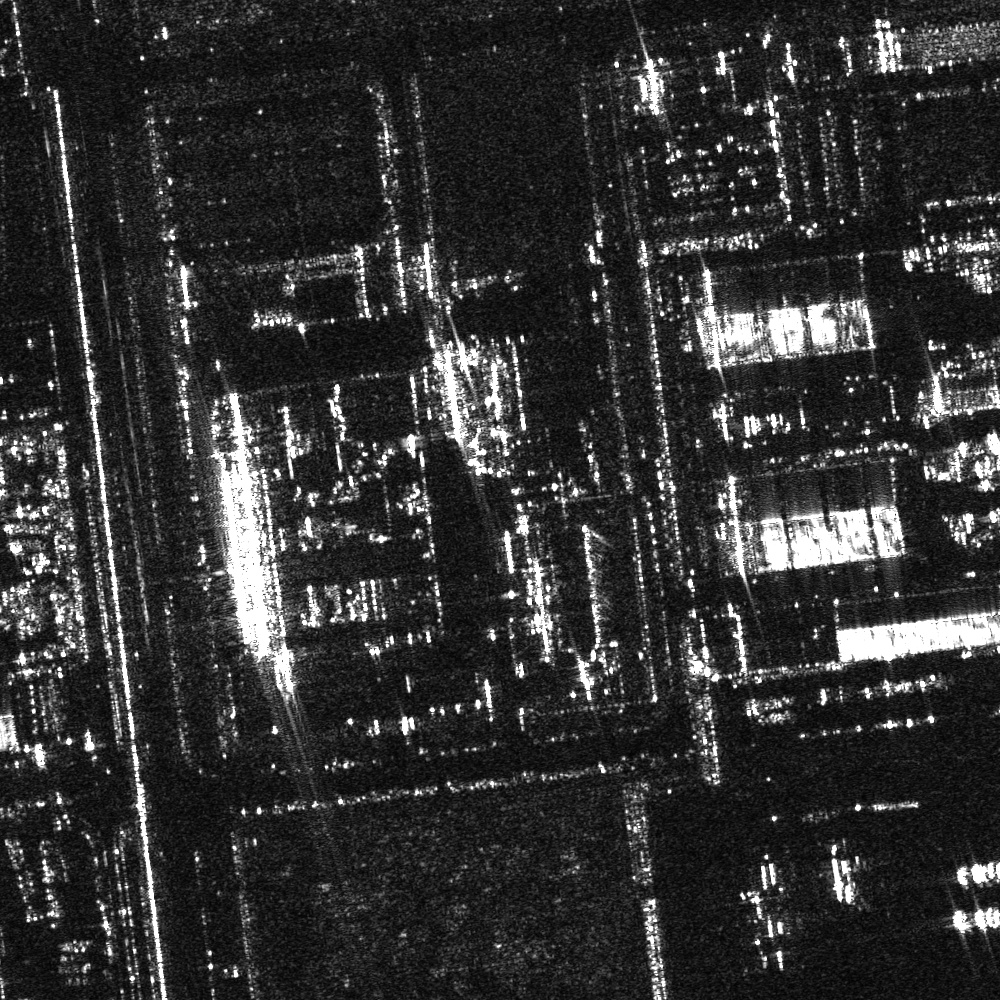Boeing787: (814, 842, 873, 905)
other: (718, 877, 795, 971)
